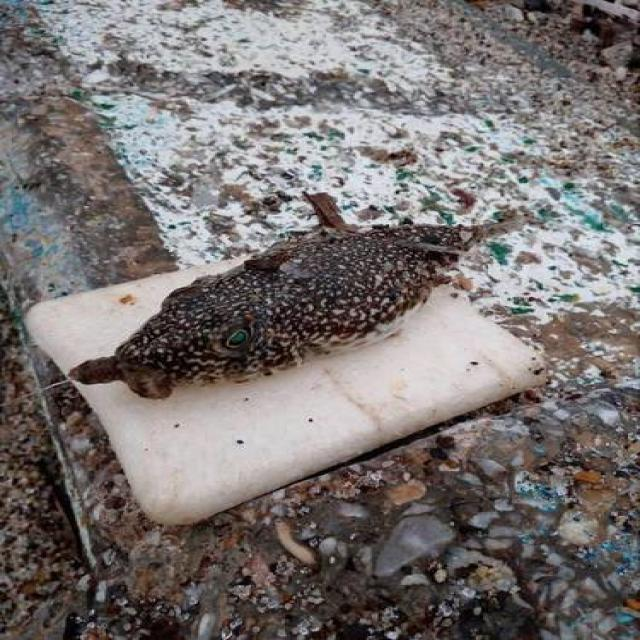Balik: (70, 195, 501, 398)
